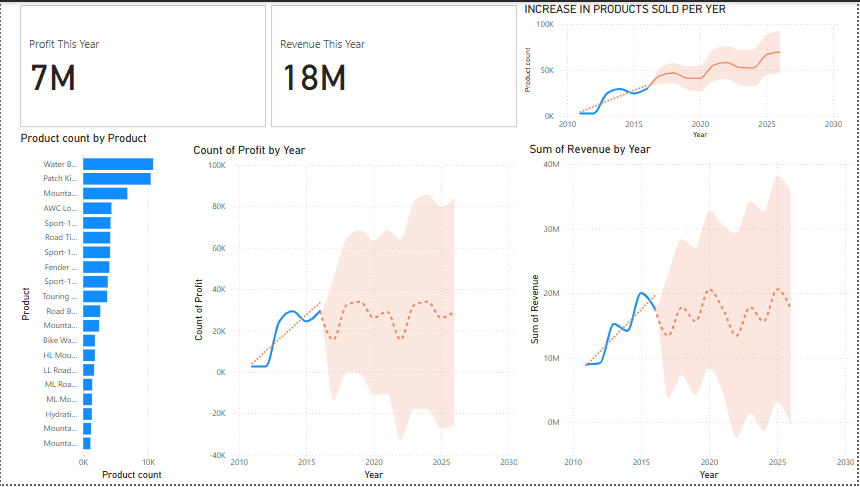

The dashboard page shown, as its layout file describes it:
{"tool":"powerbi","page":{"name":"Page 1","canvas":[1280,720],"ordinal":0},"visuals":[{"type":"lineChart","fields":{"Category":["sales_data.Year"],"Y":["CountNonNull(sales_data.Profit)"]},"box":[282.6,211.1,493.7,508.7],"z":2000},{"type":"lineChart","fields":{"Category":["sales_data.Year"],"Y":["Sum(sales_data.Revenue)"]},"box":[784.6,209.5,495.4,510.3],"z":3001},{"type":"cardVisual","fields":{"Data":["Key Measures.Total Profit","Key Measures.Total Revenue"]},"box":[23.3,0,753,192.8],"z":3002},{"type":"lineChart","title":"INCREASE IN PRODUCTS SOLD PER YER","fields":{"Y":["Key Measures.Measure"],"Category":["sales_data.Year"]},"box":[776.3,0,485.4,209.5],"z":3003},{"type":"clusteredBarChart","fields":{"Category":["sales_data.Product"],"Y":["Key Measures.Product count"]},"box":[23.3,192.8,259.3,527],"z":3004}]}

Visuals, with their boxes in screenshot pixels (x1, y1, x2, y2), scaled from the page's 1280x720 canvas onto the 860x487 screenshot:
lineChart - sales_data.Year x CountNonNull(sales_data.Profit): [190, 143, 522, 486]
lineChart - sales_data.Year x Sum(sales_data.Revenue): [527, 142, 859, 486]
cardVisual - Key Measures.Total Profit x Key Measures.Total Revenue: [16, 0, 522, 130]
"INCREASE IN PRODUCTS SOLD PER YER" lineChart: [522, 0, 848, 142]
clusteredBarChart - sales_data.Product x Key Measures.Product count: [16, 130, 190, 486]
